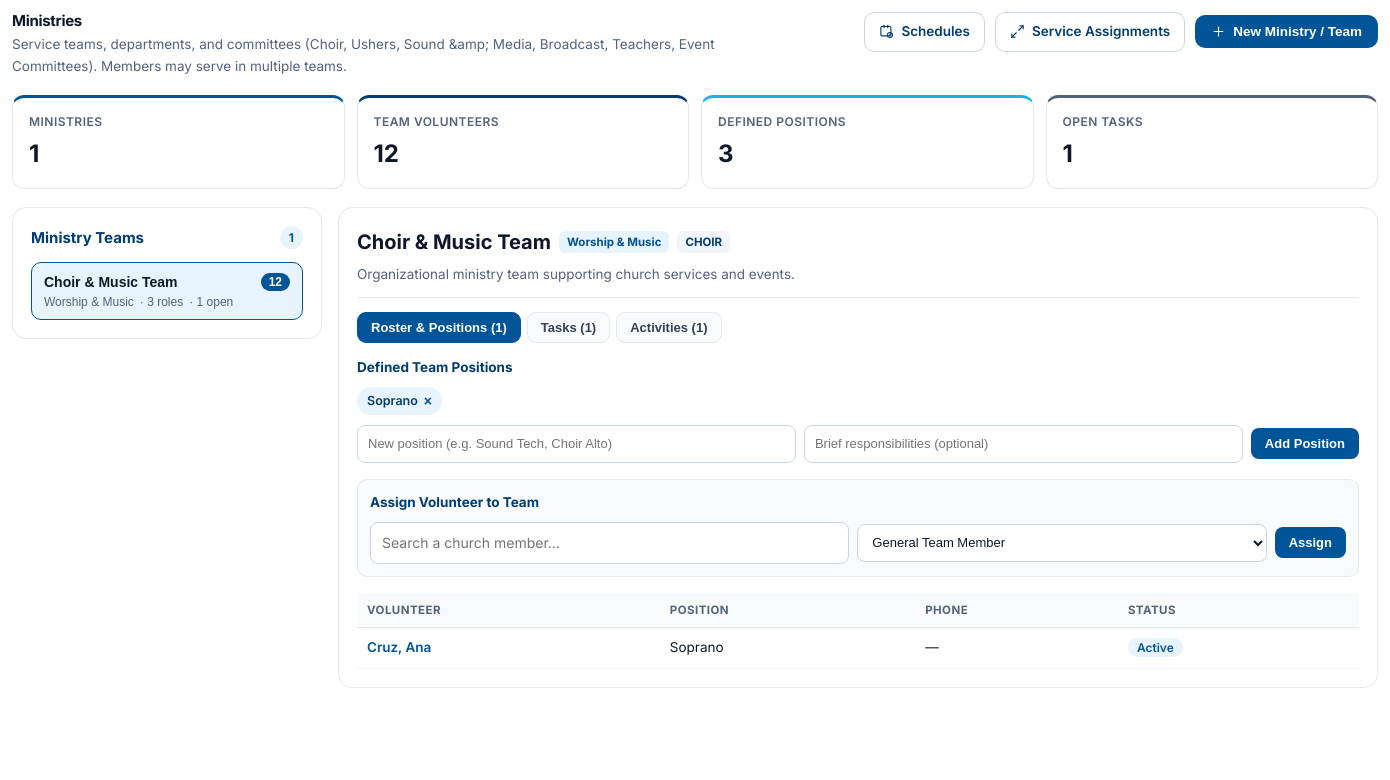
Scenario: OrgGroupsPage › renders serving groups workspace with positions, roster, and tasks tab
expect the link "Cruz, Ana" is shown: met, box [367,639,431,655]
expect the text "Soprano" is shown: met, box [367,391,418,411]
Click the tab "Tasks (1)" at [568, 328], box [527,312,610,343]
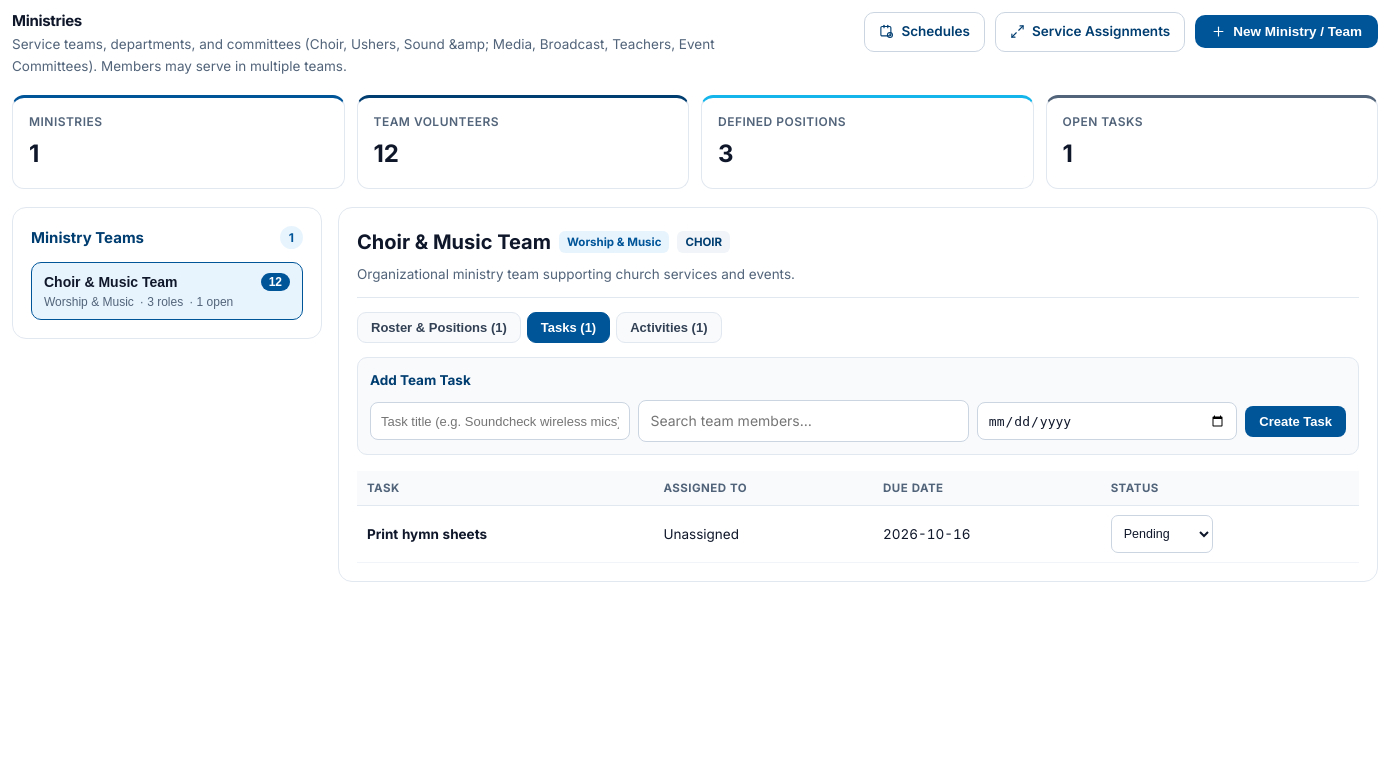
expect the text "Print hymn sheets" is shown: met, box [367,526,487,542]
